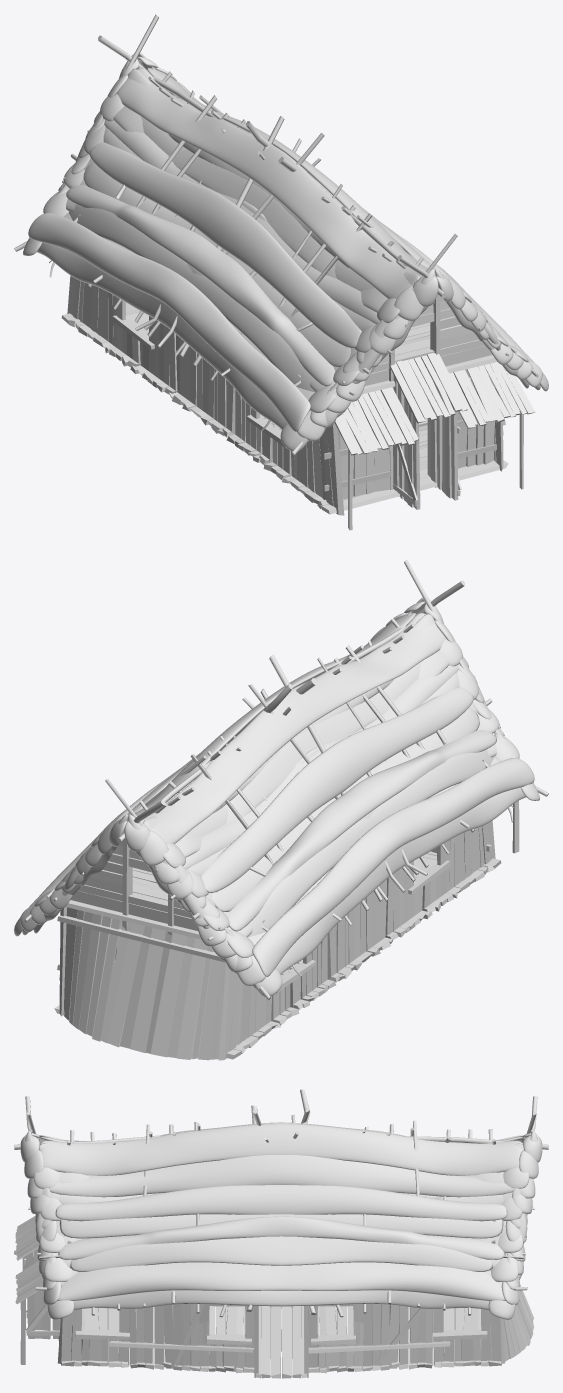
Rendered from lod0_long_house_b8b1bddc.glb.
The picture shows the model from 3 angles, top to bottom: view 1: azimuth 30°, elevation 25°; view 2: azimuth 150°, elevation 25°; view 3: azimuth 270°, elevation 25°; orthographic projection. The views are drawn at different scales.
Parts seen in each view (by area): view 1: thatch_with_opacity.001, barn.001; view 2: thatch_with_opacity.001, barn.001; view 3: thatch_with_opacity.001, barn.001.
Part boxes in pixels (x1,y1,x2,y2): thatch_with_opacity.001: (23, 52, 548, 451); barn.001: (14, 14, 538, 530); thatch_with_opacity.001: (14, 597, 539, 996); barn.001: (24, 559, 548, 1060); thatch_with_opacity.001: (20, 1122, 542, 1319); barn.001: (14, 1089, 548, 1378).
Size of the model in its own units: 2833 by 2697 by 5578.
Materials: 2 (1 with a texture image).
